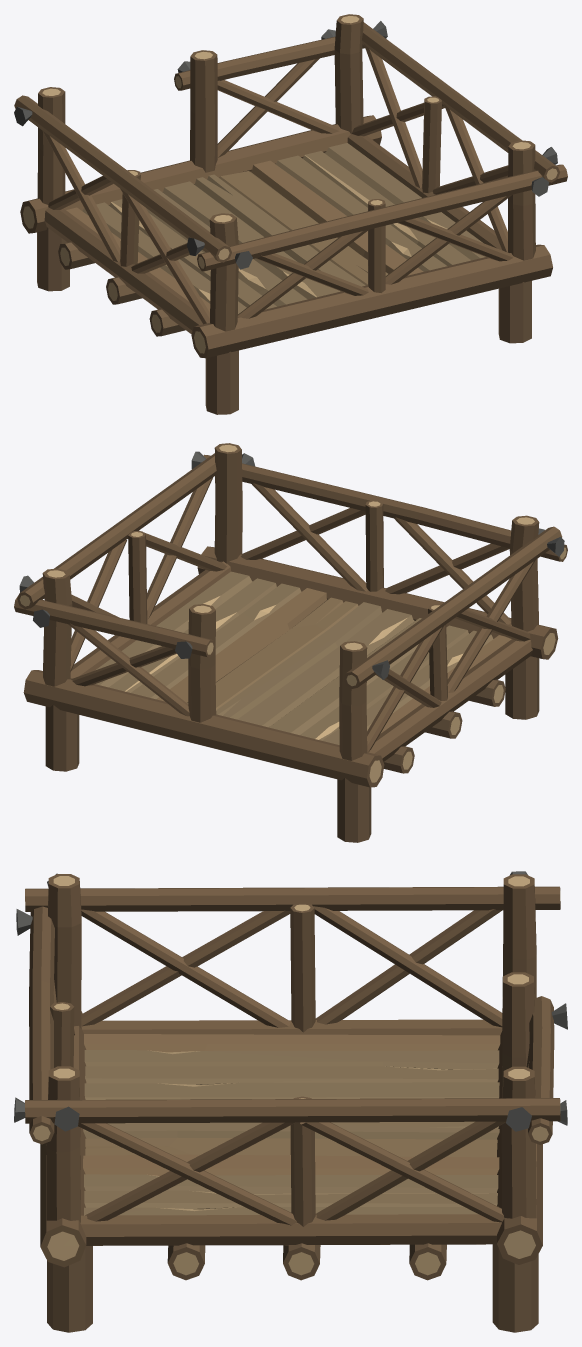
The model's file is rpgpp_ag_stockpile_02_platform_01a.fbx.
The picture shows the model from 3 angles, top to bottom: view 1: azimuth 30°, elevation 25°; view 2: azimuth 150°, elevation 25°; view 3: azimuth 270°, elevation 25°; orthographic projection. The views are drawn at different scales.
Visible parts, largest first — view 1: rpgpp_ag_stockpile_02_platform_01a; view 2: rpgpp_ag_stockpile_02_platform_01a; view 3: rpgpp_ag_stockpile_02_platform_01a.
Boxes of the visible parts, bbox=[...] form: rpgpp_ag_stockpile_02_platform_01a: bbox=[14, 14, 567, 414]; rpgpp_ag_stockpile_02_platform_01a: bbox=[14, 443, 567, 842]; rpgpp_ag_stockpile_02_platform_01a: bbox=[14, 871, 567, 1332].
Size of the model in its own units: 4.84 by 2.42 by 4.81.
